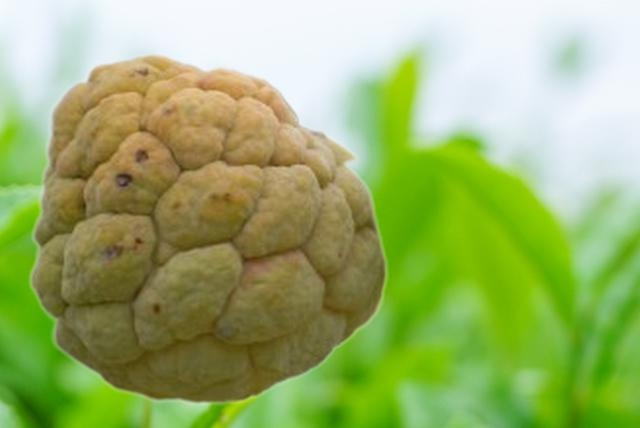atis: (27, 51, 387, 404)
